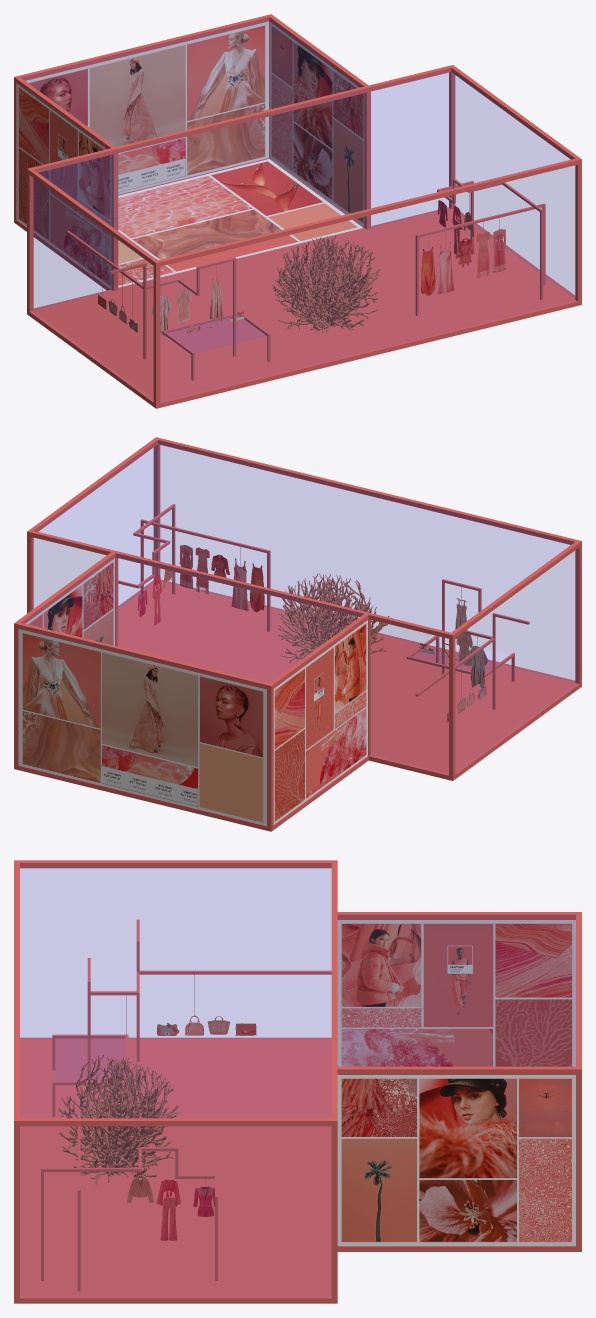
Rendered from CoralStore_v001.glb.
3 views of the same model, one above another, from view 1: azimuth 30°, elevation 25°; view 2: azimuth 150°, elevation 25°; view 3: azimuth 270°, elevation 25° (orthographic). The views are drawn at different scales.
Visible parts, largest first — view 1: Glass_MESH, Floor_MESH, Beam_MESH, CoralStatue_MESH, Products_MESH, ProductDisplay_right_MESH, ProductDisplay_left_MESH; view 2: Glass_MESH, Floor_MESH, Beam_MESH, Products_MESH, CoralStatue_MESH, ProductDisplay_right_MESH, ProductDisplay_left_MESH; view 3: Glass_MESH, Beam_MESH, Floor_MESH, CoralStatue_MESH, ProductDisplay_right_MESH, Products_MESH, ProductDisplay_left_MESH.
Boxes of the visible parts, x1,y1,x2,y2 form: Glass_MESH: (23, 18, 575, 401); Floor_MESH: (17, 21, 364, 288); Beam_MESH: (14, 14, 581, 408); CoralStatue_MESH: (272, 235, 380, 332); Products_MESH: (98, 200, 506, 337); ProductDisplay_right_MESH: (66, 230, 270, 380); ProductDisplay_left_MESH: (415, 178, 545, 315); Glass_MESH: (26, 441, 578, 774); Floor_MESH: (18, 558, 367, 825); Beam_MESH: (14, 437, 581, 831); Products_MESH: (137, 545, 488, 722); CoralStatue_MESH: (278, 573, 389, 663); ProductDisplay_right_MESH: (406, 579, 529, 709); ProductDisplay_left_MESH: (118, 504, 270, 631); Glass_MESH: (20, 868, 575, 1296); Beam_MESH: (14, 860, 581, 1303); Floor_MESH: (337, 920, 575, 1245); CoralStatue_MESH: (58, 1054, 178, 1184); ProductDisplay_right_MESH: (52, 919, 331, 1116); Products_MESH: (127, 1015, 256, 1240); ProductDisplay_left_MESH: (41, 1112, 217, 1291).
Bounding box in the file's own units: 15.39 × 5.03 × 14.17.
6 materials, 3 textured.
